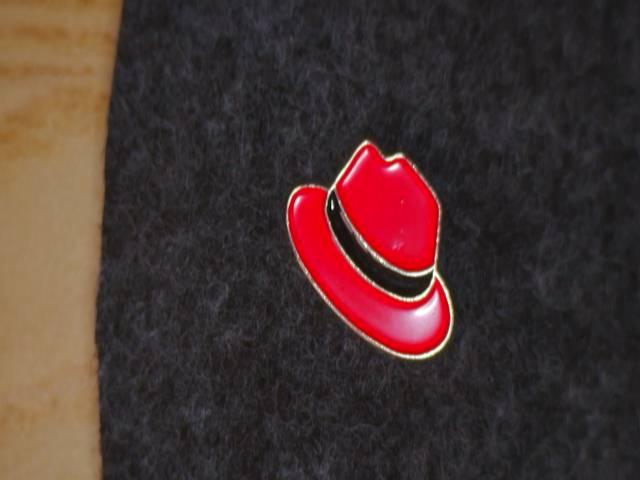Red-Hat: (266, 113, 509, 437)
